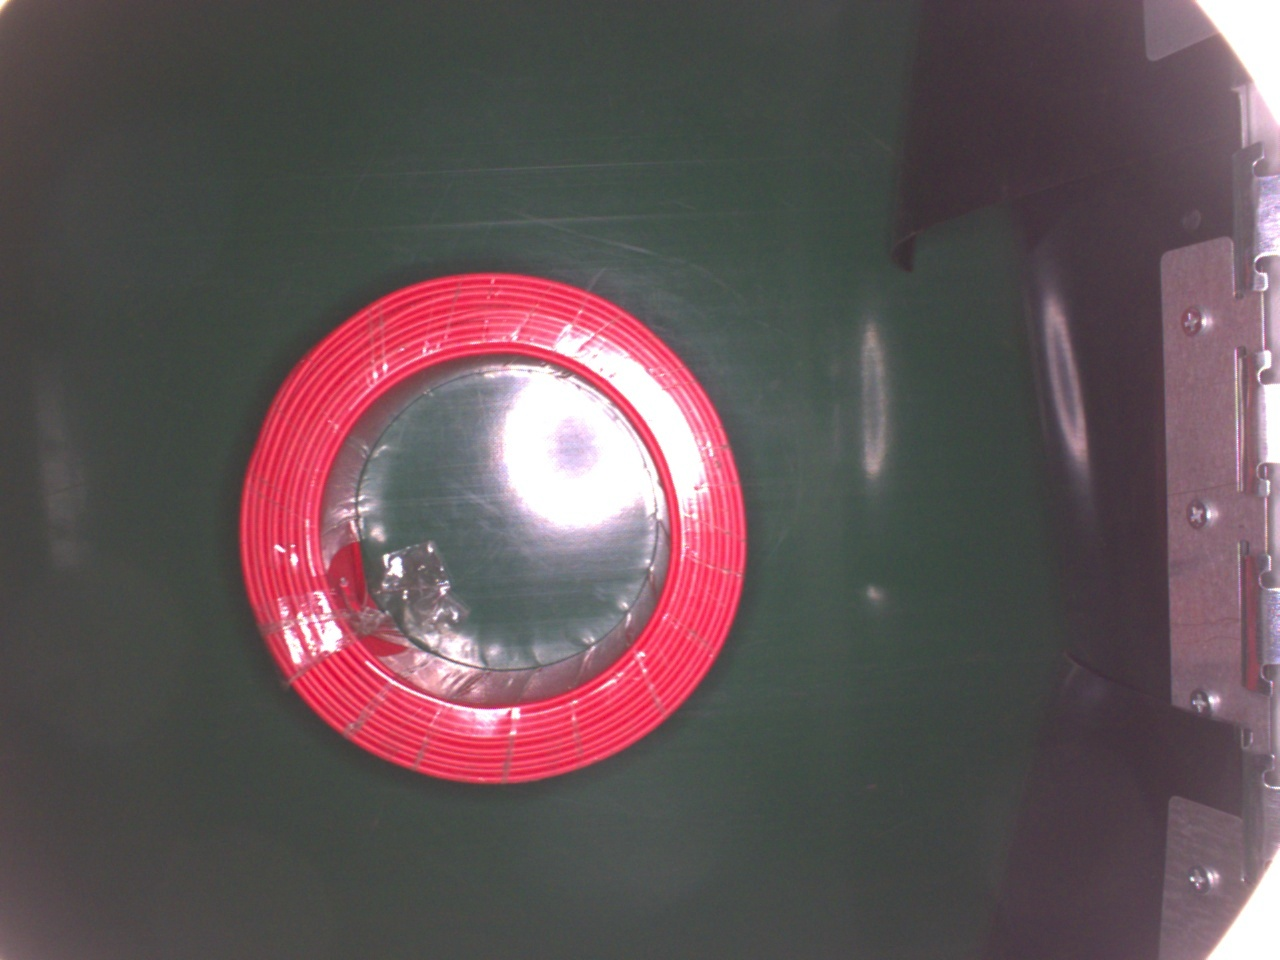red: (242, 272, 749, 789)
